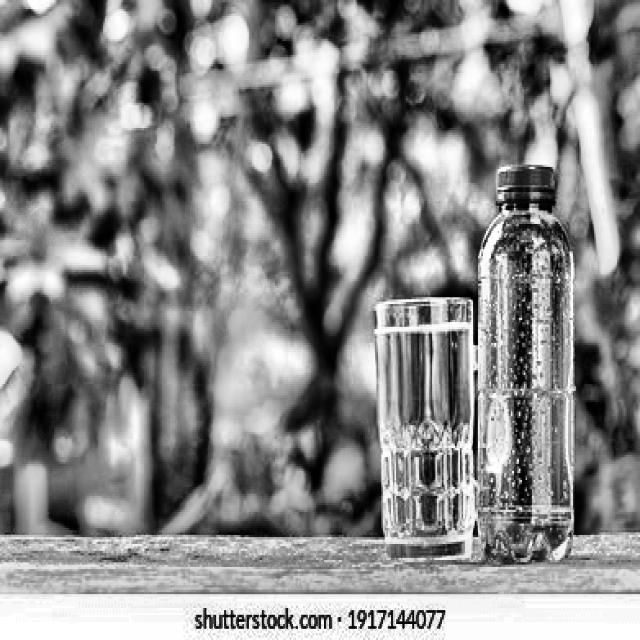waterbottle: (464, 155, 584, 575)
